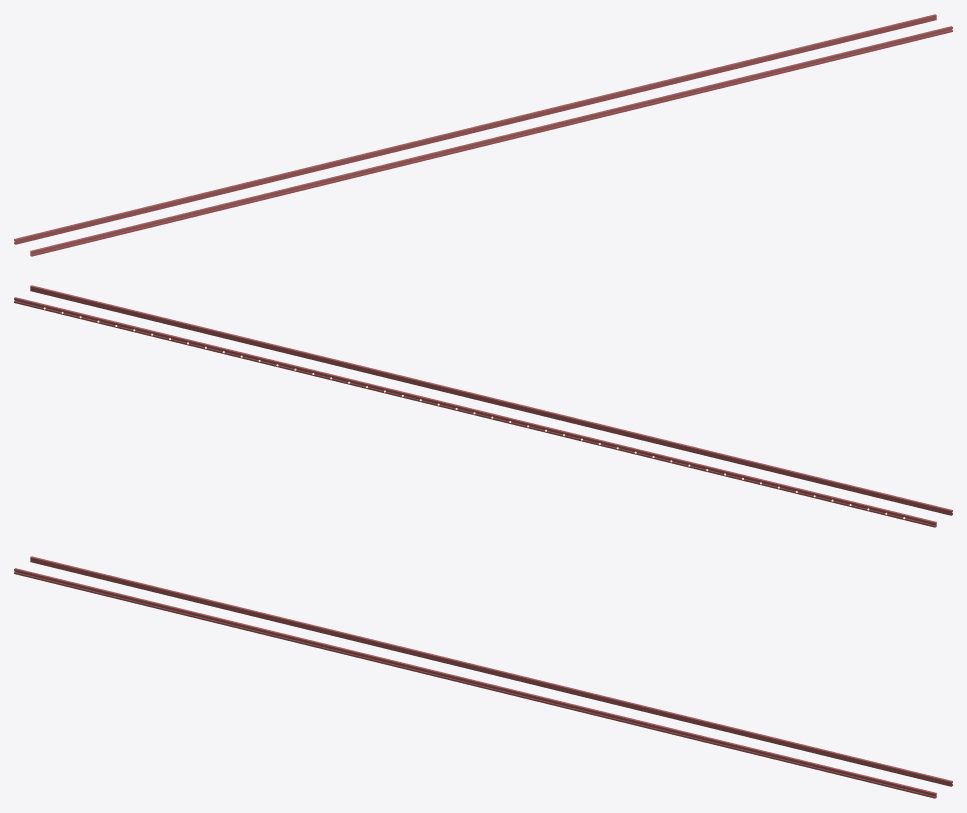
File: bridge.glb
3 renders of one model, top to bottom at view 1: azimuth 30°, elevation 25°; view 2: azimuth 150°, elevation 25°; view 3: azimuth 330°, elevation 25°, orthographic.
Parts seen in each view (by area): view 1: Bridge; view 2: Bridge; view 3: Bridge.
Boxes of the visible parts, x1,y1,x2,y2 form: Bridge: (14, 14, 952, 256); Bridge: (14, 285, 952, 527); Bridge: (14, 556, 952, 798).
Size of the model in its own units: 30 by 0.15 by 1.05.
